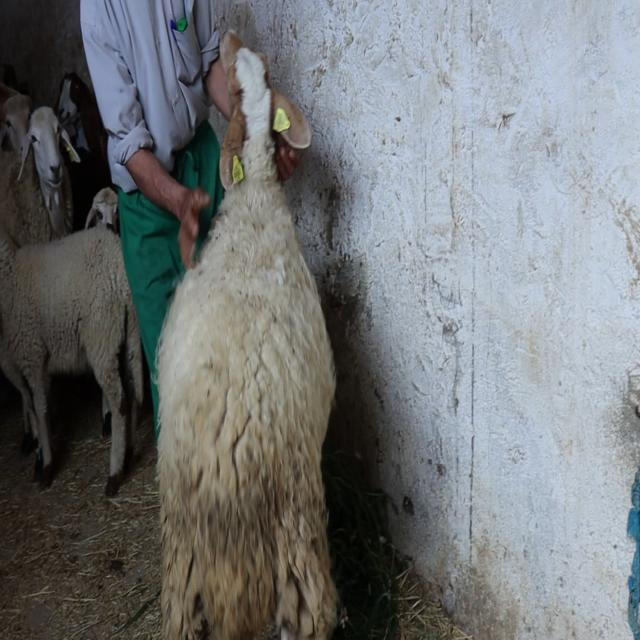Score_5: (157, 31, 339, 639)
